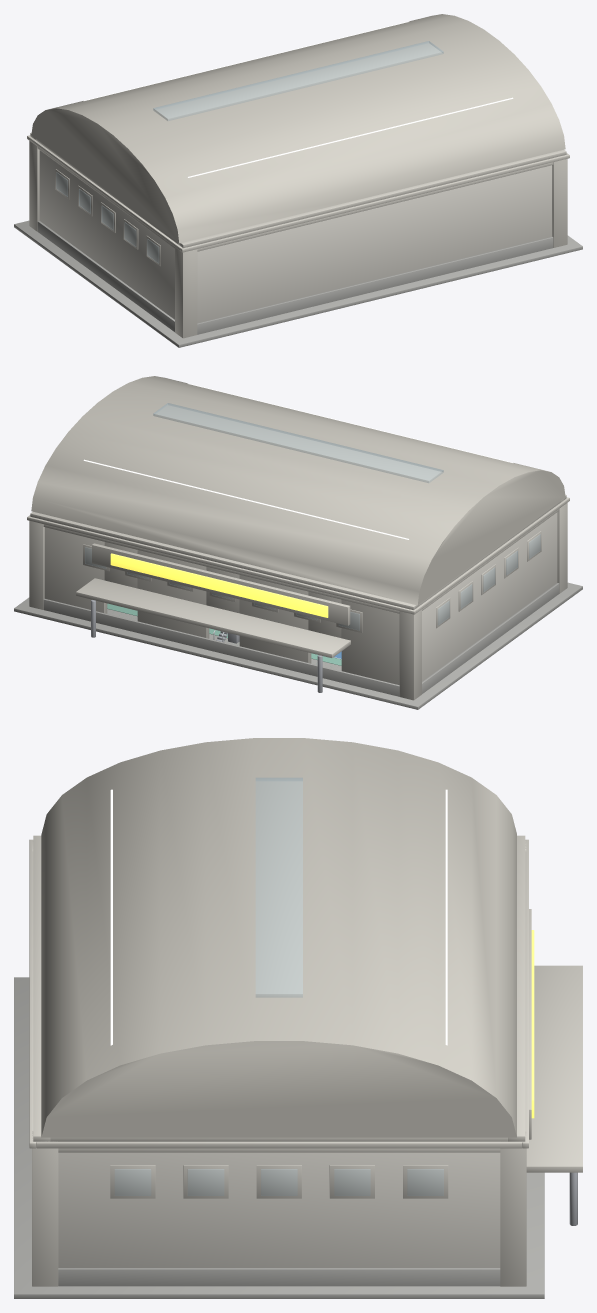
The model's file is th19_tennishalle.glb.
3 renders of one model, top to bottom at view 1: azimuth 30°, elevation 25°; view 2: azimuth 150°, elevation 25°; view 3: azimuth 270°, elevation 25°, orthographic. The views are drawn at different scales.
Parts seen in each view (by area): view 1: Cylinder.032, Cube.396, Cube.397, Cube, Cube.453, Cube.403, Cube.449, Cube.399, Cube.411, Cube.405, Cube.401, Cube.407 (+3 smaller); view 2: Cylinder.032, Cube.397, Cube, Cube.461, Cube.453, Cube.404, Cube.389, Cube.392, Cube.459, Cube.460, Cube.450, Cube.391 (+13 smaller); view 3: Cylinder.032, Cube.398, Cube, Cube.461, Cube.453, Cube.406, Cube.414, Cube.401, Cube.402, Cube.449, Cube.450, Cube.452 (+16 smaller).
Boxes of the visible parts, left/top/right/bottom form: Cylinder.032: left=31, top=14, right=565, bottom=243; Cube.396: left=197, top=165, right=552, bottom=322; Cube.397: left=39, top=150, right=174, bottom=319; Cube: left=14, top=220, right=582, bottom=347; Cube.453: left=153, top=41, right=443, bottom=120; Cube.403: left=197, top=236, right=553, bottom=334; Cube.449: left=178, top=149, right=566, bottom=247; Cube.399: left=175, top=243, right=197, bottom=338; Cube.411: left=180, top=153, right=569, bottom=252; Cube.405: left=37, top=221, right=174, bottom=331; Cube.401: left=552, top=154, right=567, bottom=247; Cube.407: left=197, top=162, right=553, bottom=251; Cylinder.032: left=31, top=376, right=565, bottom=605; Cube.397: left=422, top=512, right=557, bottom=681; Cube: left=14, top=582, right=582, bottom=709; Cube.461: left=76, top=578, right=350, bottom=657; Cube.453: left=153, top=403, right=443, bottom=482; Cube.404: left=43, top=598, right=399, bottom=696; Cube.389: left=341, top=600, right=399, bottom=684; Cube.392: left=44, top=527, right=107, bottom=613; Cube.459: left=92, top=543, right=350, bottom=625; Cube.460: left=110, top=553, right=328, bottom=617; Cube.450: left=30, top=511, right=418, bottom=609; Cube.391: left=137, top=550, right=209, bottom=638; Cylinder.032: left=41, top=738, right=516, bottom=1137; Cube.398: left=58, top=1152, right=500, bottom=1267; Cube: left=14, top=977, right=544, bottom=1298; Cube.461: left=526, top=965, right=582, bottom=1172; Cube.453: left=255, top=777, right=302, bottom=997; Cube.406: left=58, top=1268, right=500, bottom=1286; Cube.414: left=36, top=1141, right=521, bottom=1148; Cube.401: left=32, top=1131, right=58, bottom=1286; Cube.402: left=500, top=1131, right=526, bottom=1286; Cube.449: left=33, top=835, right=50, bottom=1141; Cube.450: left=508, top=835, right=525, bottom=1141; Cube.452: left=50, top=1137, right=507, bottom=1141.
Size of the model in its own units: 41 by 15.37 by 31.1.
